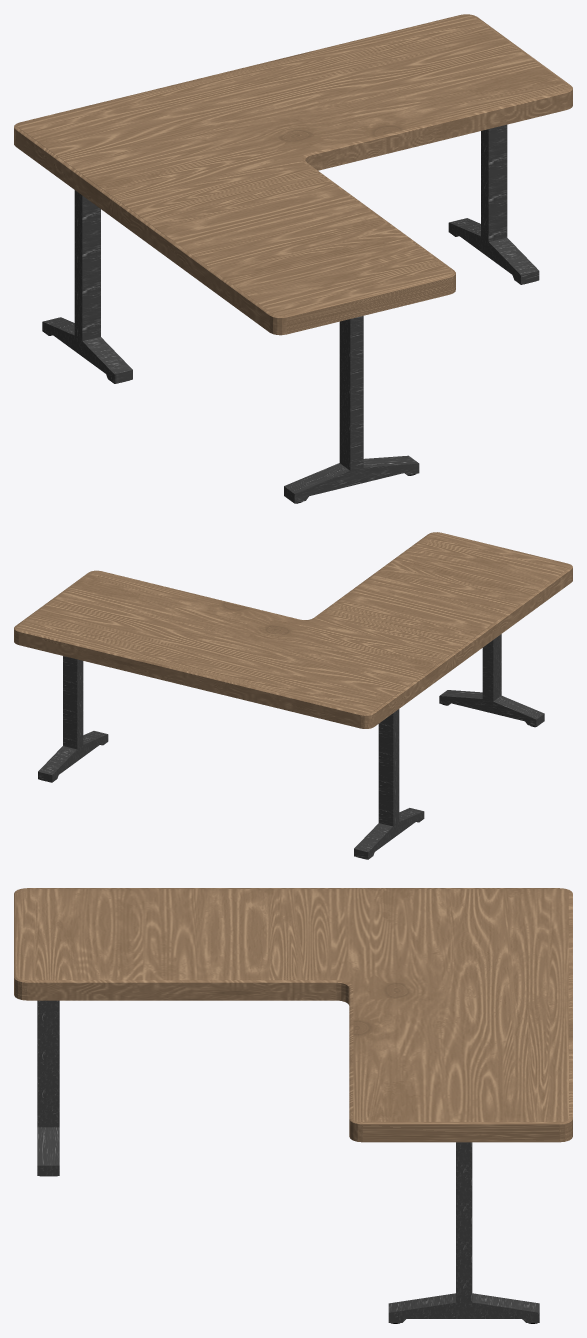
File: table2.glb
3 views of the same model, one above another, from view 1: azimuth 30°, elevation 25°; view 2: azimuth 150°, elevation 25°; view 3: azimuth 270°, elevation 25° (orthographic). The views are drawn at different scales.
Parts seen in each view (by area): view 1: Cube, Cube.001; view 2: Cube, Cube.001; view 3: Cube, Cube.001.
Boxes of the visible parts, x1,y1,x2,y2 form: Cube: [14, 14, 572, 335]; Cube.001: [42, 124, 539, 503]; Cube: [14, 532, 572, 728]; Cube.001: [38, 634, 544, 859]; Cube: [14, 888, 572, 1142]; Cube.001: [37, 1000, 539, 1323].
Bounding box in the file's own units: 5 × 2.09 × 5.
3 materials, 2 textured.
